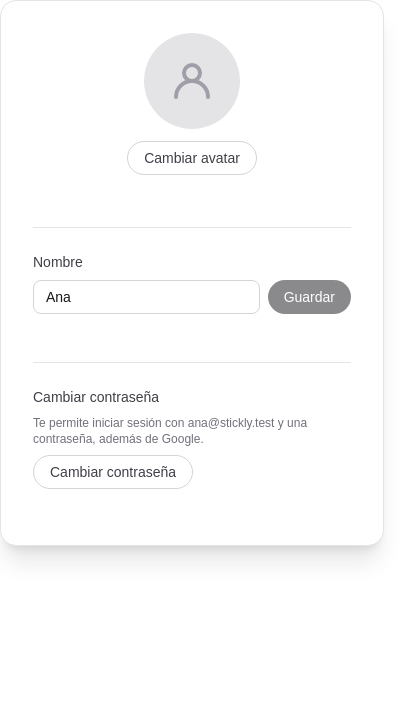
it: ProfileForm › changes the password and closes the form
Click the button "Cambiar contraseña".
click(113, 472)  # box 33,455 -> 193,489
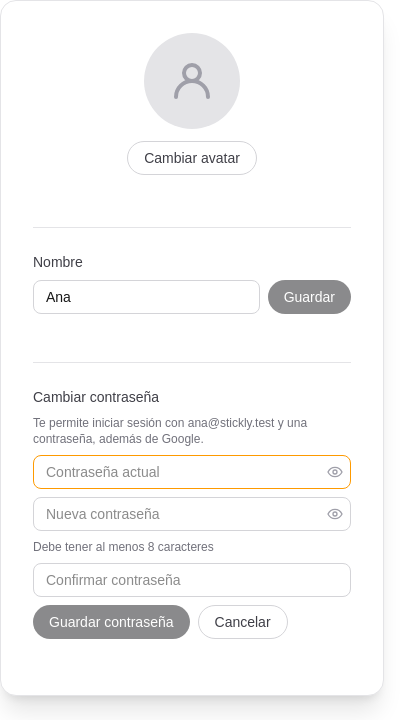
Type "old-password" into the password field labelled "Contraseña actual".
click(192, 472); type("old-password")  # box 33,455 -> 351,489
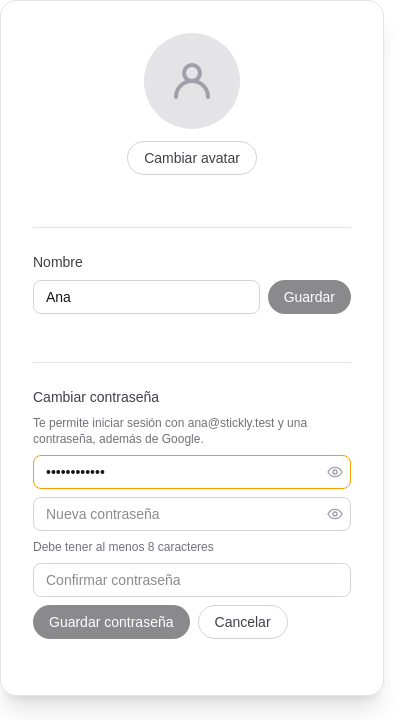
Type "new-password" into the password field labelled "Nueva contraseña".
click(192, 514); type("new-password")  # box 33,497 -> 351,531
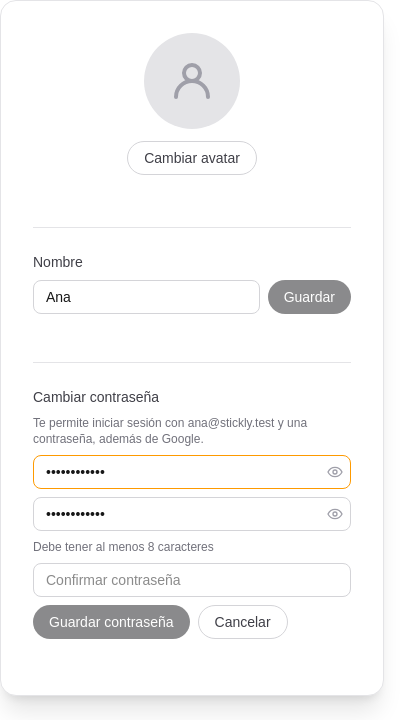
Type "new-password" into the password field labelled "Confirmar contraseña".
click(192, 580); type("new-password")  # box 33,563 -> 351,597
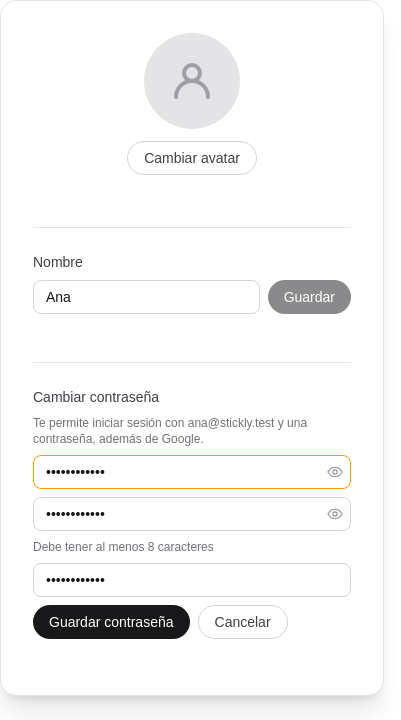
Click the button "Guardar contraseña".
click(111, 622)  # box 33,605 -> 190,639
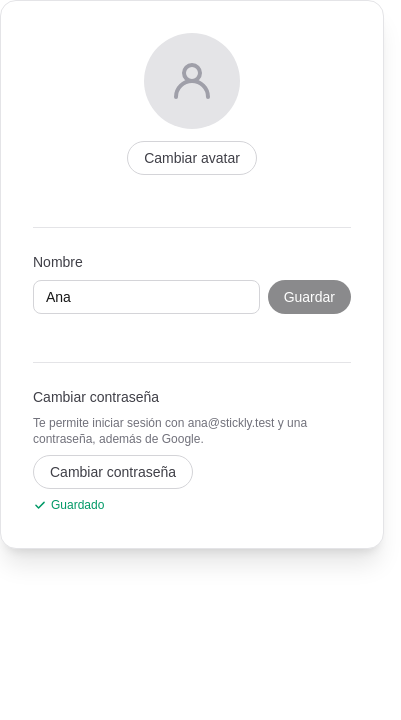
Expected: the field labelled "Nueva contraseña" is not shown
Expected: the text "Guardado" is shown, 33,497 -> 104,513
